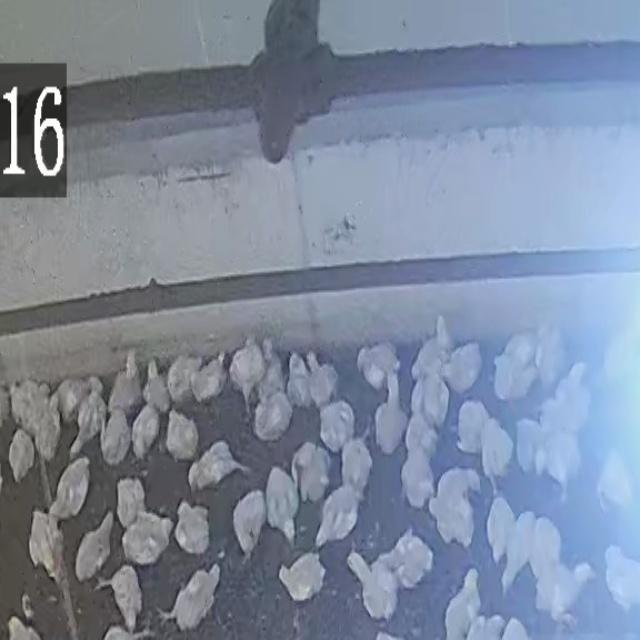chicken: (165, 560, 222, 634), (427, 468, 480, 547), (536, 557, 596, 623), (348, 550, 400, 622), (492, 331, 542, 404), (544, 362, 592, 436), (98, 562, 144, 636), (539, 428, 583, 503), (313, 484, 362, 550), (188, 441, 249, 494), (74, 509, 117, 583), (119, 506, 172, 566), (498, 508, 535, 593), (528, 515, 564, 601), (67, 385, 108, 460), (387, 528, 435, 591), (372, 375, 409, 456), (263, 465, 299, 545), (48, 458, 91, 522), (276, 550, 325, 606), (443, 568, 481, 640), (227, 337, 269, 401), (399, 442, 437, 512), (602, 544, 640, 614), (28, 509, 64, 582), (478, 418, 514, 490), (440, 340, 484, 398), (230, 490, 268, 557), (595, 451, 634, 516), (355, 341, 401, 396), (404, 397, 441, 465), (292, 440, 332, 502), (533, 320, 566, 395), (172, 499, 212, 558), (486, 496, 517, 572), (252, 390, 294, 444), (52, 377, 96, 428), (107, 361, 143, 422), (99, 404, 133, 468), (339, 436, 373, 500), (410, 332, 450, 386), (166, 352, 204, 408), (455, 399, 493, 455), (317, 400, 356, 453), (129, 402, 162, 464), (415, 369, 448, 431), (164, 408, 201, 463), (115, 474, 149, 532), (191, 349, 228, 402), (304, 354, 338, 410), (514, 418, 544, 478), (255, 362, 288, 416), (140, 357, 170, 415), (35, 397, 61, 461), (286, 351, 313, 412), (8, 429, 36, 484), (463, 612, 509, 640), (499, 616, 531, 640), (0, 380, 12, 433)
